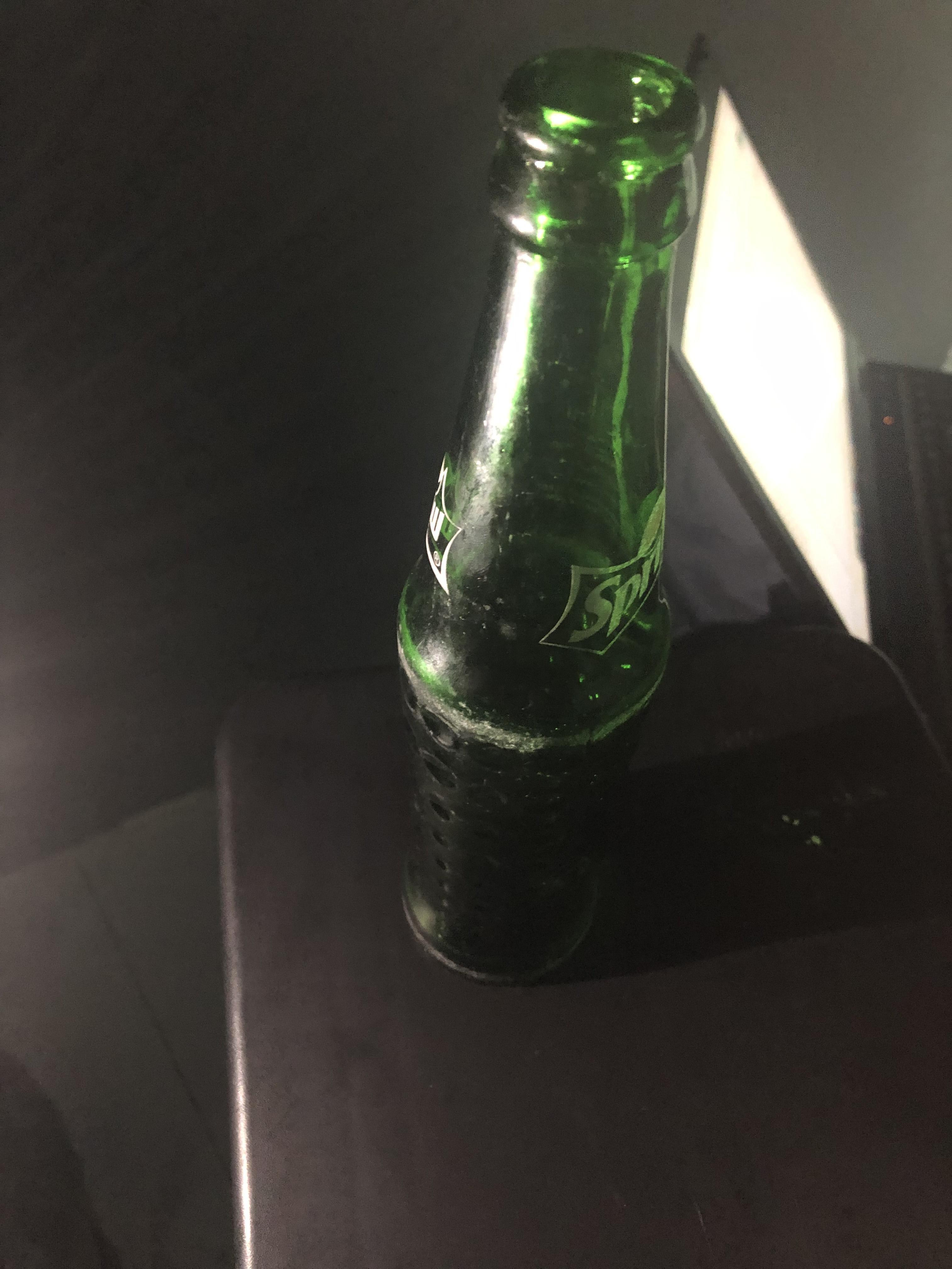bottle-glass: (392, 39, 711, 1000)
